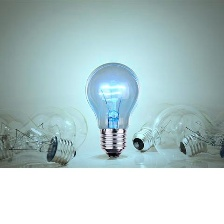light_bulb: (81, 59, 142, 158), (0, 102, 91, 163), (148, 100, 224, 171), (0, 101, 79, 169), (131, 98, 189, 154)
